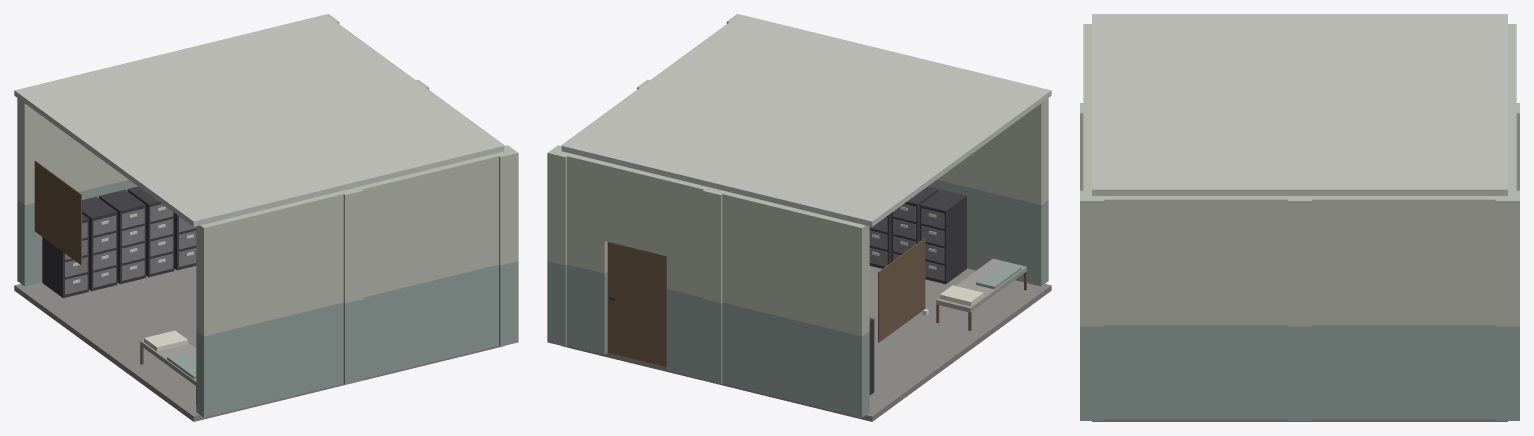
The model's file is INT_Records.glb.
3 views of the same model, side by side, from view 1: azimuth 30°, elevation 25°; view 2: azimuth 150°, elevation 25°; view 3: azimuth 270°, elevation 25° (orthographic). The views are drawn at different scales.
Visible parts, largest first — view 1: INT_Records_Wall_Solid_01, INT_Records_Wall_Solid_02, INT_Records_Ceiling_Plain_01, INT_Records_Ceiling_Plain_03, INT_Records_Ceiling_Plain_02, INT_Records_Ceiling_Plain_04, INT_Records_Floor_Tile_02, INT_Records_Wall_Solid_03, INT_Records_Corner_Post_01, INT_Records_Corner_Post_02, INT_Records_Floor_Tile_01, INT_Records_Prop_WallCharts_01 (+6 smaller); view 2: INT_Records_Wall_Solid_03, INT_Records_Wall_Door_01, INT_Records_Ceiling_Plain_02, INT_Records_Ceiling_Plain_04, INT_Records_Ceiling_Plain_01, INT_Records_Ceiling_Plain_03, INT_Records_Wall_Solid_01, INT_Records_Door_Service_01, INT_Records_Floor_Tile_01, INT_Records_Floor_Tile_02, INT_Records_Corner_Post_05, INT_Records_Corner_Post_04 (+6 smaller); view 3: INT_Records_Wall_Solid_05, INT_Records_Wall_Solid_04, INT_Records_Ceiling_Plain_03, INT_Records_Ceiling_Plain_04, INT_Records_Ceiling_Plain_01, INT_Records_Ceiling_Plain_02, INT_Records_Corner_Post_02, INT_Records_Corner_Post_04, INT_Records_Corner_Post_03, INT_Records_Wall_Solid_01, INT_Records_Wall_Solid_03, INT_Records_Wall_Solid_02 (+5 smaller).
Boxes of the visible parts, bbox=[...] form: INT_Records_Wall_Solid_01: bbox=[196, 191, 345, 417]; INT_Records_Wall_Solid_02: bbox=[356, 153, 500, 378]; INT_Records_Ceiling_Plain_01: bbox=[104, 118, 348, 226]; INT_Records_Ceiling_Plain_03: bbox=[259, 80, 504, 188]; INT_Records_Ceiling_Plain_02: bbox=[14, 52, 258, 160]; INT_Records_Ceiling_Plain_04: bbox=[170, 14, 414, 117]; INT_Records_Floor_Tile_02: bbox=[14, 266, 196, 355]; INT_Records_Wall_Solid_03: bbox=[17, 98, 137, 286]; INT_Records_Corner_Post_01: bbox=[340, 187, 363, 384]; INT_Records_Corner_Post_02: bbox=[496, 145, 518, 346]; INT_Records_Floor_Tile_01: bbox=[104, 328, 348, 421]; INT_Records_Prop_WallCharts_01: bbox=[34, 160, 81, 264]; INT_Records_Wall_Solid_03: bbox=[720, 191, 869, 417]; INT_Records_Wall_Door_01: bbox=[565, 153, 707, 378]; INT_Records_Ceiling_Plain_02: bbox=[717, 118, 961, 226]; INT_Records_Ceiling_Plain_04: bbox=[561, 80, 806, 188]; INT_Records_Ceiling_Plain_01: bbox=[807, 52, 1051, 160]; INT_Records_Ceiling_Plain_03: bbox=[651, 14, 895, 117]; INT_Records_Wall_Solid_01: bbox=[928, 98, 1048, 286]; INT_Records_Door_Service_01: bbox=[607, 242, 666, 366]; INT_Records_Floor_Tile_01: bbox=[869, 266, 1051, 355]; INT_Records_Floor_Tile_02: bbox=[717, 329, 961, 421]; INT_Records_Corner_Post_05: bbox=[702, 187, 725, 384]; INT_Records_Corner_Post_04: bbox=[547, 145, 570, 346]; INT_Records_Wall_Solid_05: bbox=[1309, 196, 1495, 419]; INT_Records_Wall_Solid_04: bbox=[1104, 196, 1289, 419]; INT_Records_Ceiling_Plain_03: bbox=[1092, 102, 1299, 195]; INT_Records_Ceiling_Plain_04: bbox=[1300, 102, 1507, 195]; INT_Records_Ceiling_Plain_01: bbox=[1092, 14, 1299, 101]; INT_Records_Ceiling_Plain_02: bbox=[1300, 14, 1507, 101]; INT_Records_Corner_Post_02: bbox=[1080, 190, 1104, 420]; INT_Records_Corner_Post_04: bbox=[1495, 190, 1519, 420]; INT_Records_Corner_Post_03: bbox=[1288, 196, 1311, 420]; INT_Records_Wall_Solid_01: bbox=[1083, 24, 1091, 102]; INT_Records_Wall_Solid_03: bbox=[1508, 24, 1516, 102]; INT_Records_Wall_Solid_02: bbox=[1083, 112, 1091, 192].
Size of the model in its own units: 6.17 by 3.7 by 6.35.
